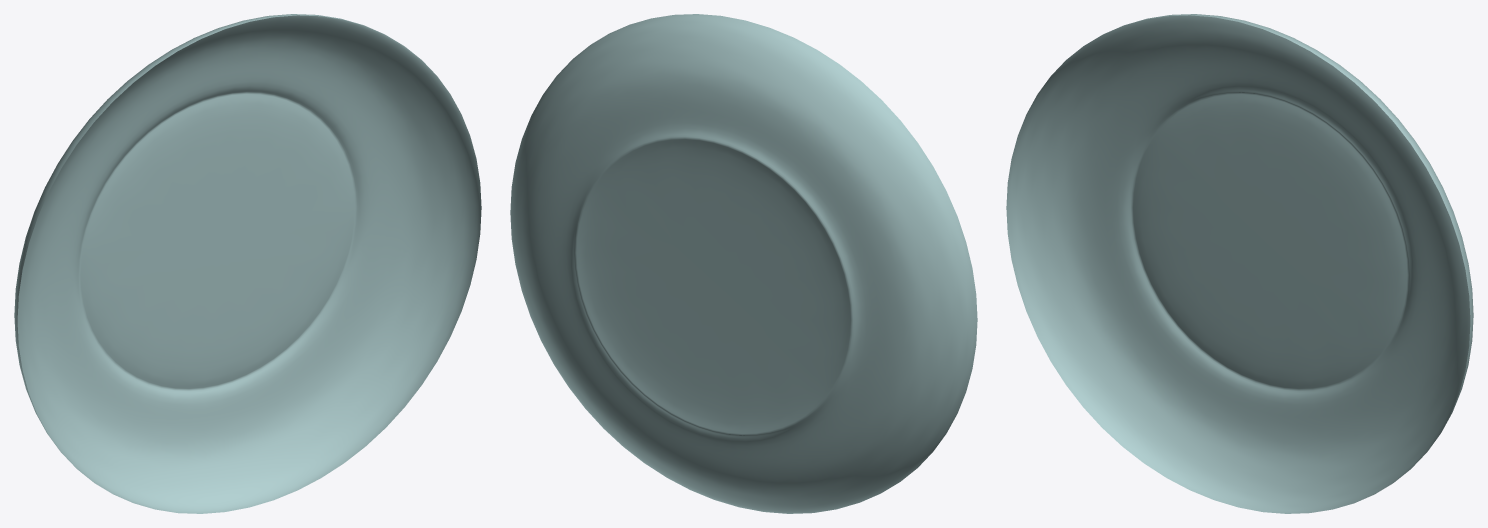
3 views of the same model, side by side, from view 1: azimuth 30°, elevation 25°; view 2: azimuth 150°, elevation 25°; view 3: azimuth 330°, elevation 25° (orthographic).
Bounding box in the file's own units: 1 × 1 × 0.119.
